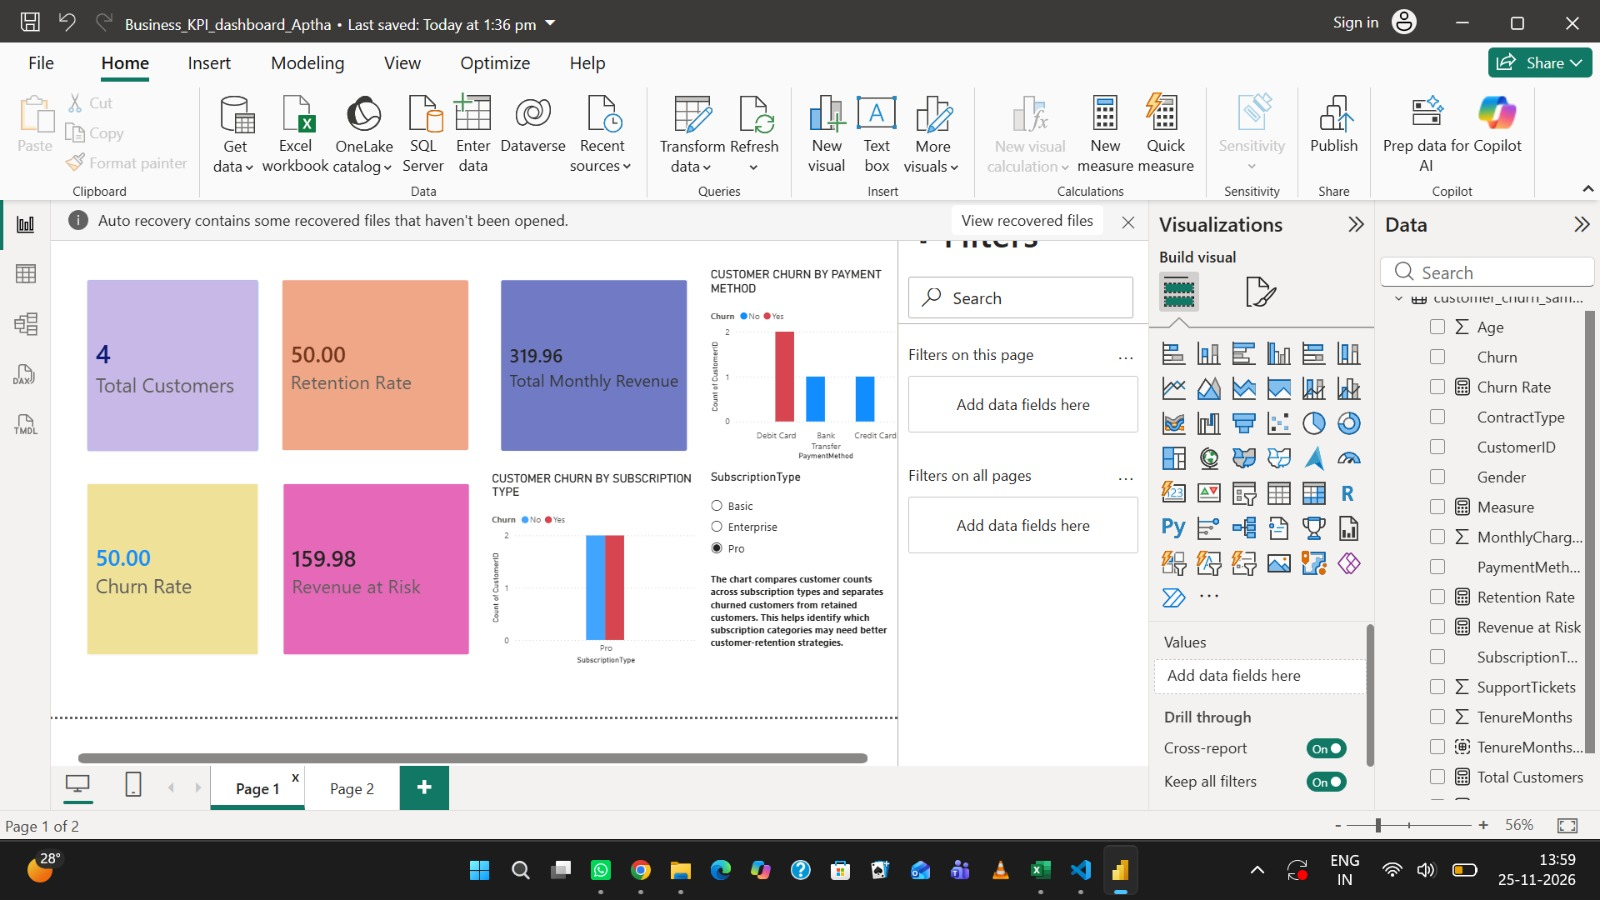

This screenshot's page, from the dashboard's own definition file:
{"tool":"powerbi","page":{"name":"Page 1","canvas":[1280,720],"ordinal":0},"visuals":[{"type":"cardVisual","fields":{"Data":["customer_churn_sample (2).Total Customers"]},"box":[58.6,79.4,280,280],"z":0},{"type":"cardVisual","fields":{"Data":["customer_churn_sample (2).Churn Rate"]},"box":[59,369,280,280],"z":1},{"type":"cardVisual","fields":{"Data":["customer_churn_sample (2).Retention Rate"]},"box":[338.3,79.4,302.4,279.7],"z":2},{"type":"cardVisual","fields":{"Data":["customer_churn_sample (2).Revenue at Risk"]},"box":[339,369,301,280],"z":3},{"type":"cardVisual","fields":{"Data":["customer_churn_sample (2).Total Monthly Revenue"]},"box":[650,79,302,280],"z":4},{"type":"clusteredColumnChart","title":"CUSTOMER CHURN BY SUBSCRIPTION TYPE","fields":{"Category":["customer_churn_sample (2).SubscriptionType"],"Y":["CountNonNull(customer_churn_sample (2).CustomerID)"],"Series":["customer_churn_sample (2).Churn"]},"box":[650,369,302,280],"z":5},{"type":"clusteredColumnChart","title":"CUSTOMER CHURN BY PAYMENT METHOD","fields":{"Category":["customer_churn_sample (2).PaymentMethod"],"Y":["CountNonNull(customer_churn_sample (2).CustomerID)"],"Series":["customer_churn_sample (2).Churn"]},"box":[962,79,302,280],"z":6},{"type":"listSlicer","fields":{"Values":["customer_churn_sample (2).SubscriptionType"]},"box":[961.9,368.5,277.8,139.8],"z":7},{"type":"textbox","box":[962,509,278,150],"z":8}]}

Visuals, with their boxes on the page's 1280x720 design canvas (x1, y1, x2, y2). These are canvas units, not pixel positions in the 1600x900 screenshot, which may show the page scaled, cropped or inside an application window:
cardVisual - customer_churn_sample (2).Total Customers: (left=59, top=79, right=339, bottom=359)
cardVisual - customer_churn_sample (2).Churn Rate: (left=59, top=369, right=339, bottom=649)
cardVisual - customer_churn_sample (2).Retention Rate: (left=338, top=79, right=641, bottom=359)
cardVisual - customer_churn_sample (2).Revenue at Risk: (left=339, top=369, right=640, bottom=649)
cardVisual - customer_churn_sample (2).Total Monthly Revenue: (left=650, top=79, right=952, bottom=359)
"CUSTOMER CHURN BY SUBSCRIPTION TYPE" clusteredColumnChart: (left=650, top=369, right=952, bottom=649)
"CUSTOMER CHURN BY PAYMENT METHOD" clusteredColumnChart: (left=962, top=79, right=1264, bottom=359)
listSlicer - customer_churn_sample (2).SubscriptionType: (left=962, top=368, right=1240, bottom=508)
textbox: (left=962, top=509, right=1240, bottom=659)
